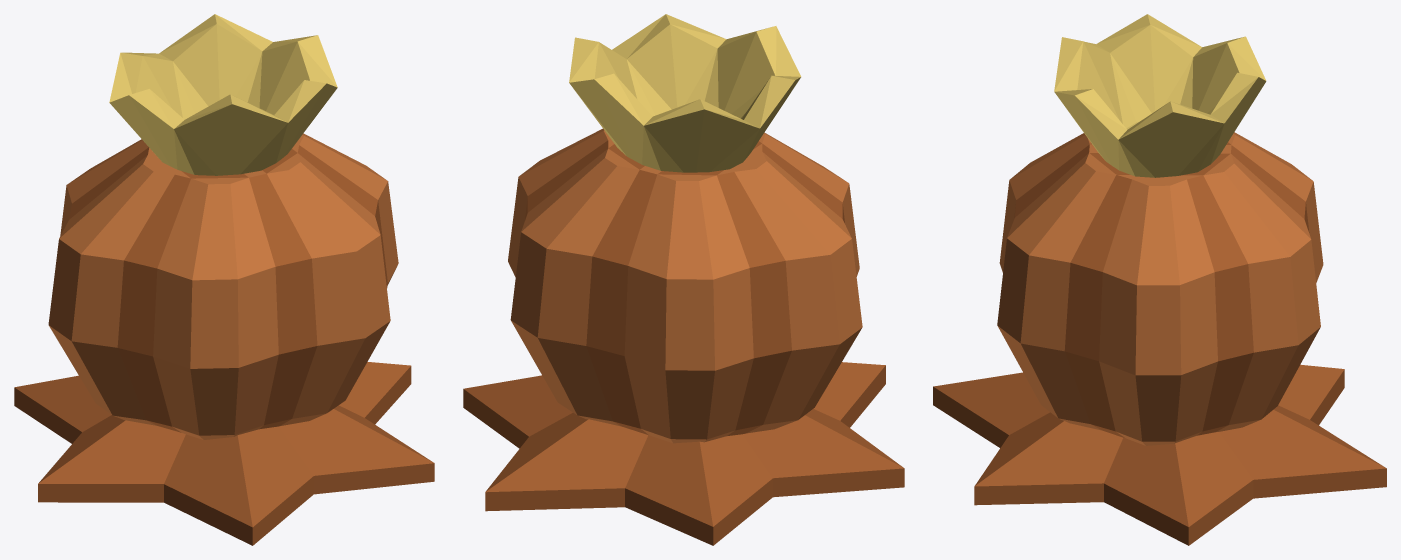
File: gauranlen_pod_a.obj
3 renders of one model, left to right at view 1: azimuth 30°, elevation 25°; view 2: azimuth 150°, elevation 25°; view 3: azimuth 270°, elevation 25°, orthographic. The views are drawn at different scales.
Parts seen in each view (by area): view 1: gauranlen_pod_a; view 2: gauranlen_pod_a; view 3: gauranlen_pod_a.
Boxes of the visible parts, box(x1,y1,x2,y2) form: gauranlen_pod_a: box(14, 14, 434, 545); gauranlen_pod_a: box(463, 14, 904, 545); gauranlen_pod_a: box(933, 14, 1386, 545).
Size of the model in its own units: 0.9083 by 0.8469 by 0.8782.
